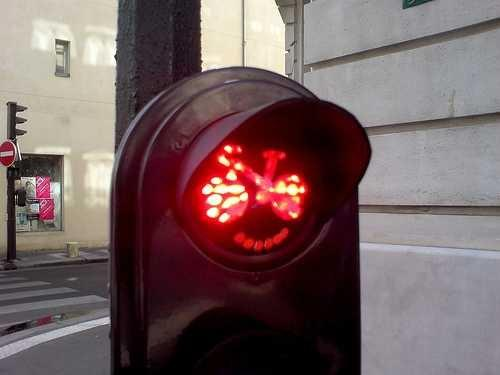red: (163, 87, 348, 272)
